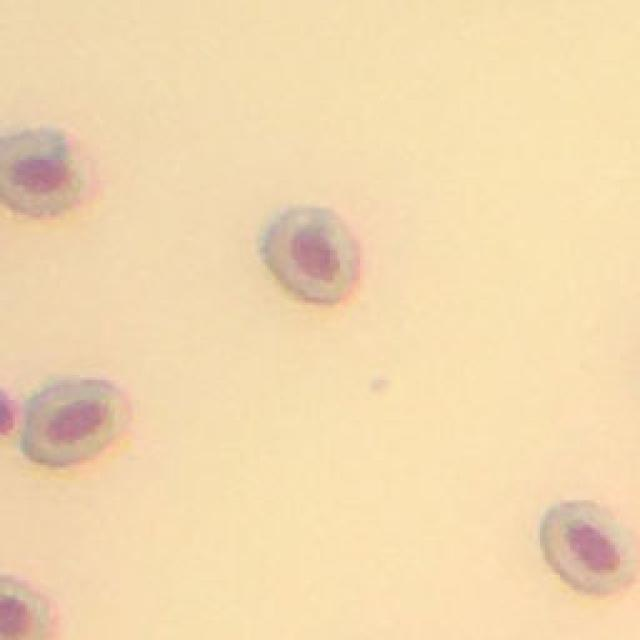RBC: (263, 207, 363, 307), (21, 378, 128, 463), (0, 126, 99, 217), (540, 500, 634, 594), (0, 578, 48, 639)
